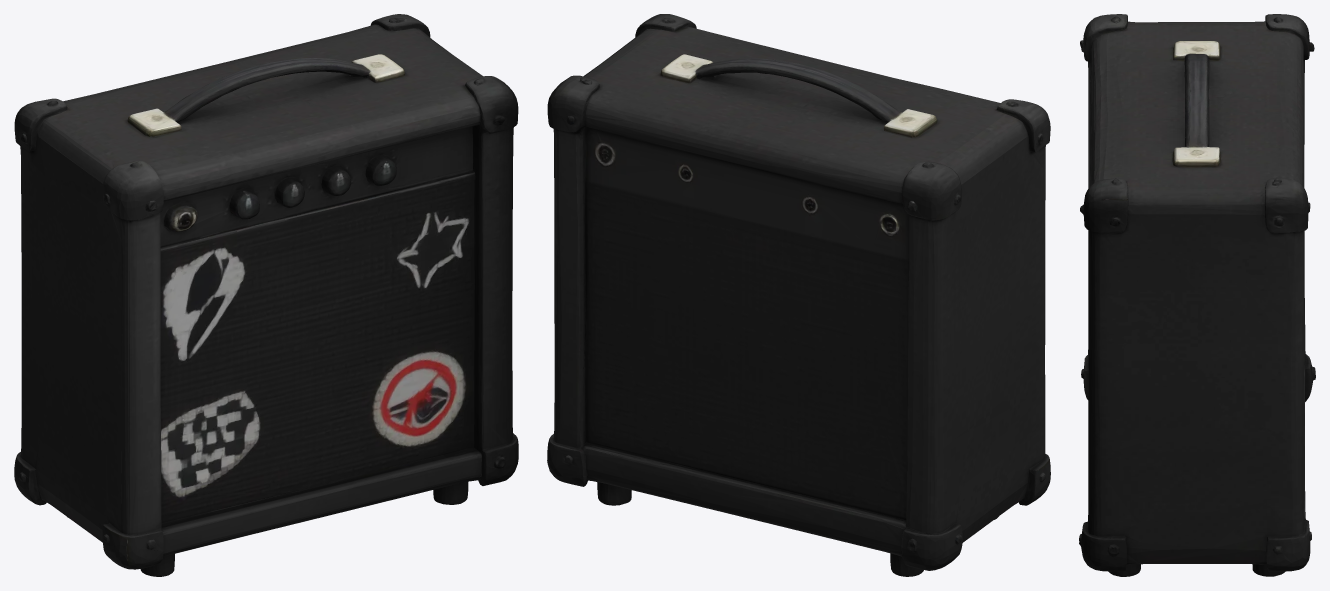
Rendered from amp.glb.
The picture shows the model from 3 angles, left to right: view 1: azimuth 30°, elevation 25°; view 2: azimuth 150°, elevation 25°; view 3: azimuth 270°, elevation 25°; orthographic projection. The views are drawn at different scales.
Visible parts, largest first — view 1: geometry_0; view 2: geometry_0; view 3: geometry_0.
Part boxes in pixels (left/top/right/bottom): geometry_0: left=14, top=14, right=518, bottom=576; geometry_0: left=547, top=14, right=1050, bottom=576; geometry_0: left=1079, top=14, right=1315, bottom=576.
Size of the model in its own units: 0.9725 by 0.9992 by 0.5053.
1 material, 1 textured.
